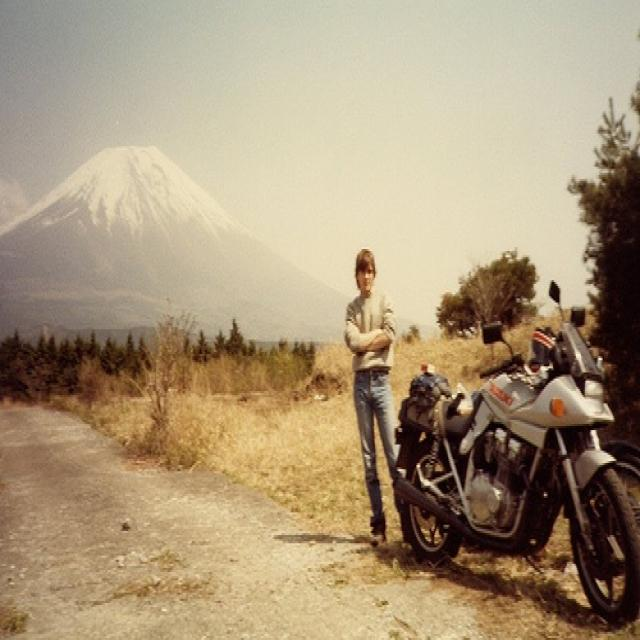motorbike: (392, 280, 638, 625)
